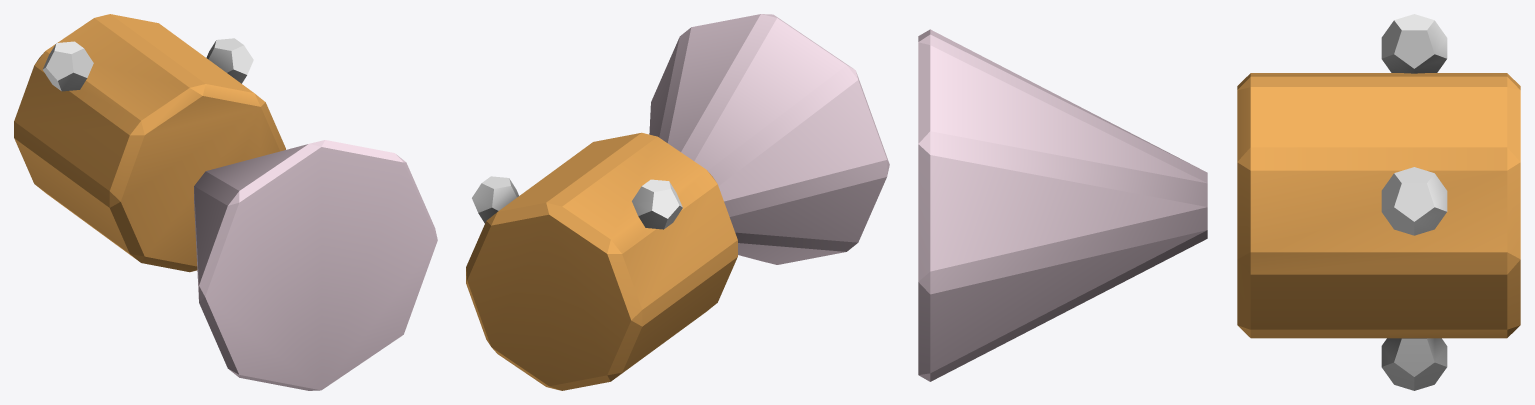
The model's file is AttChoke.fbx.
The picture shows the model from 3 angles, left to right: view 1: azimuth 30°, elevation 25°; view 2: azimuth 150°, elevation 25°; view 3: azimuth 270°, elevation 25°; orthographic projection. The views are drawn at different scales.
Visible parts, largest first — view 1: Body; view 2: Body; view 3: Body.
Part boxes in pixels (left/top/right/bottom): Body: left=14, top=14, right=437, bottom=390; Body: left=466, top=14, right=889, bottom=390; Body: left=918, top=14, right=1520, bottom=390.
Bounding box in the file's own units: 0.1033 × 0.1033 × 0.17.
